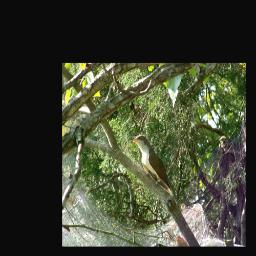Cuckoo: (131, 133, 183, 212)
